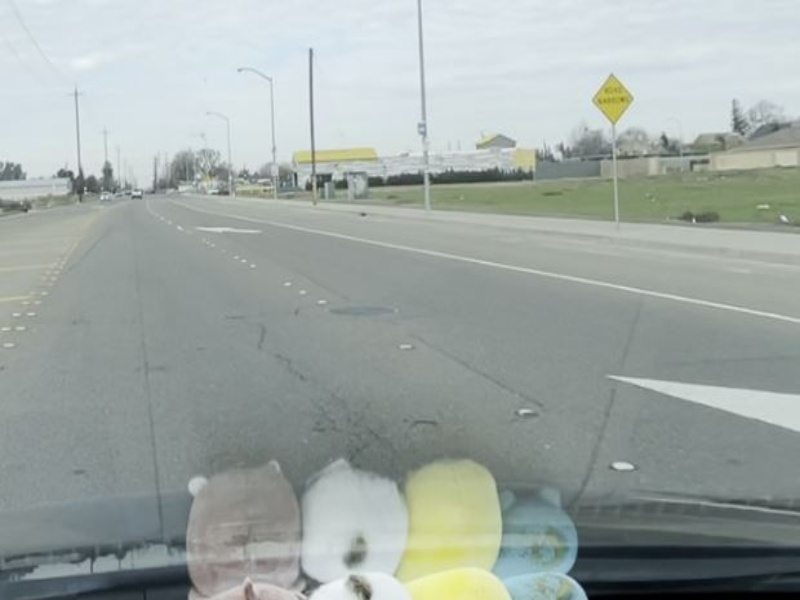merge sign: (590, 70, 636, 125)
